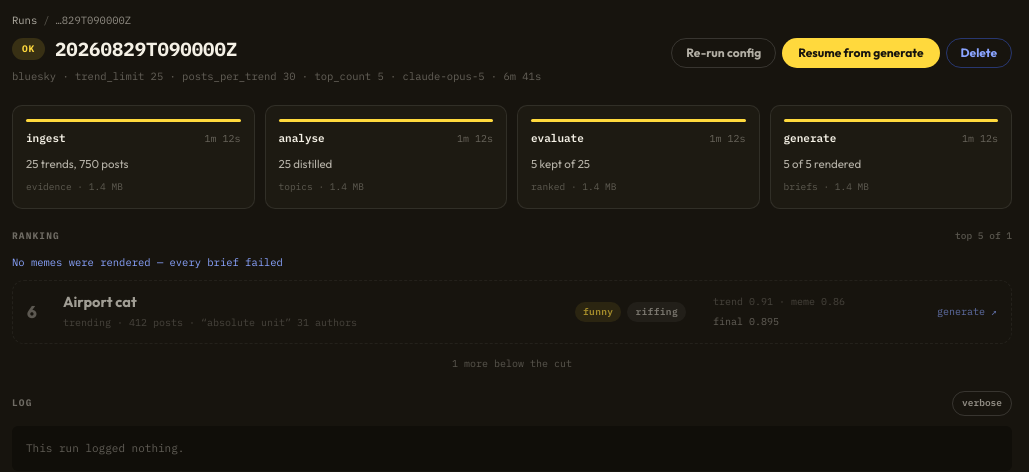
Test: RunDetailPage › does not brief the topic twice while the first request is on its way
Click the button "generate ↗": (967,312) [937,304,997,320]
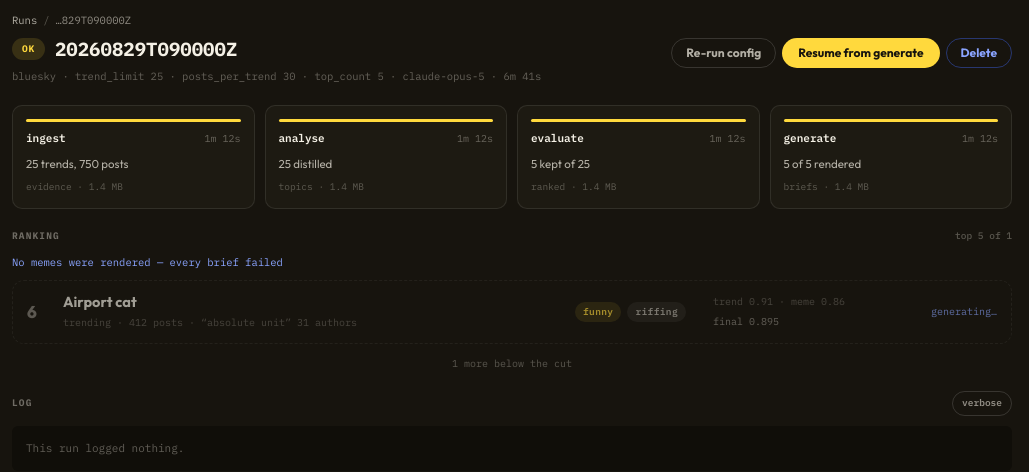
Result: the button named "generate ↗" is disabled
Click the button named "generate ↗": (964,312) [931,304,997,320]
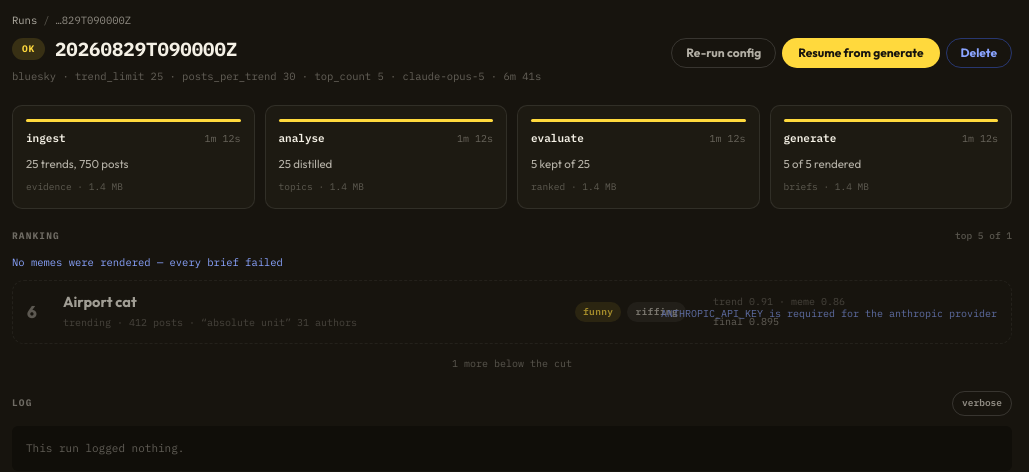
Result: the message "ANTHROPIC_API_KEY is required for the anthropic provider" is shown at [661,302,997,322]
